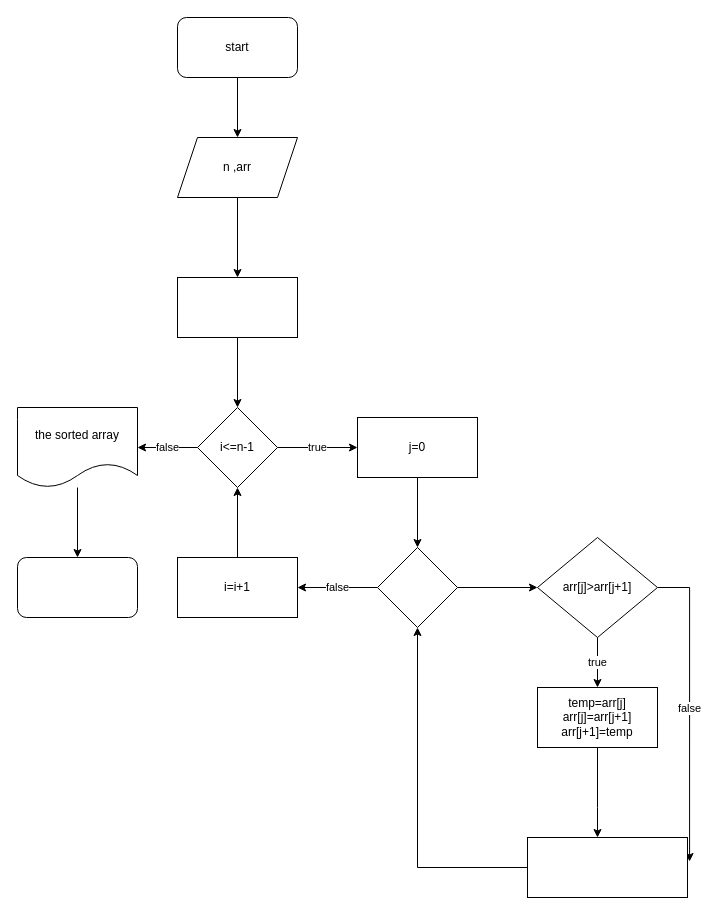
This 719x915 diagram has some shape labels left out. Here are the shapes that lost their labels. From the top down, the centre of each, then its label:
At point 237,307: "i=1".
At point 77,587: "end".
At point 417,587: "j<=n-i-1".
At point 607,867: "j=j+1".
